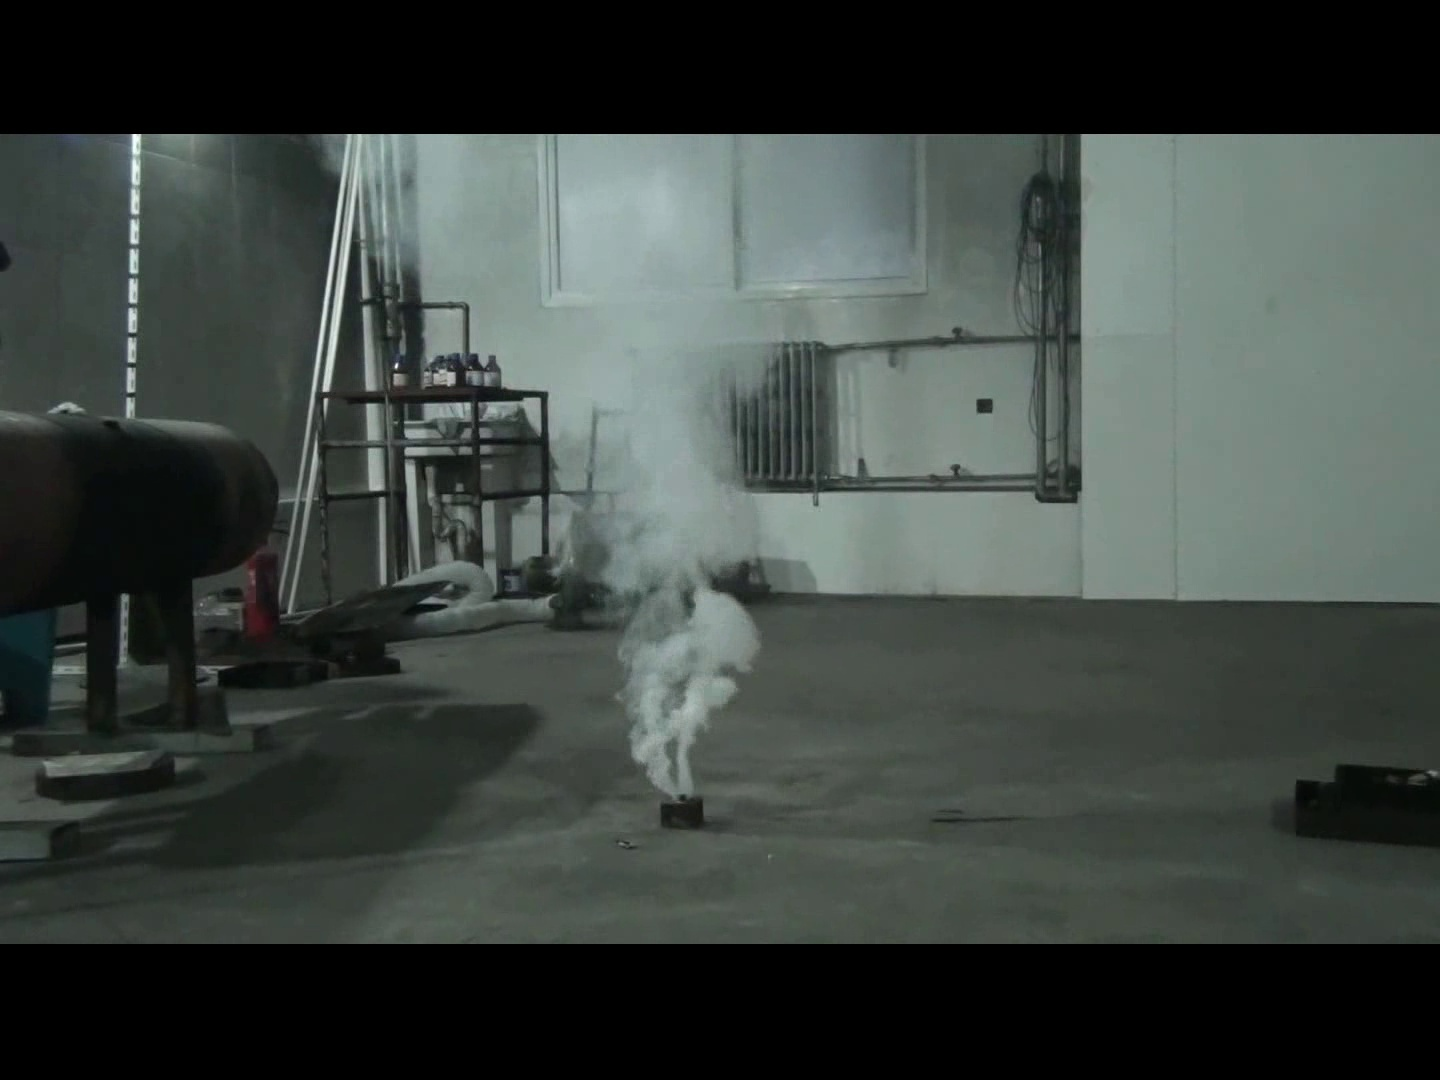smoke: (537, 286, 807, 805)
